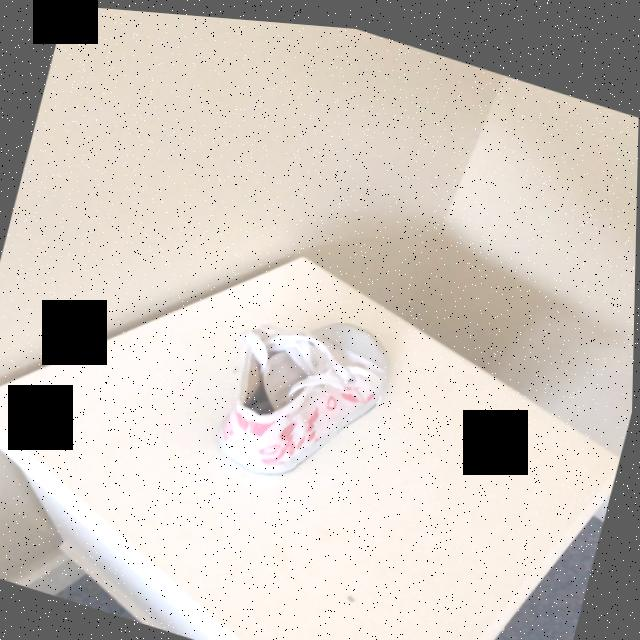shoe: (217, 310, 393, 477)
